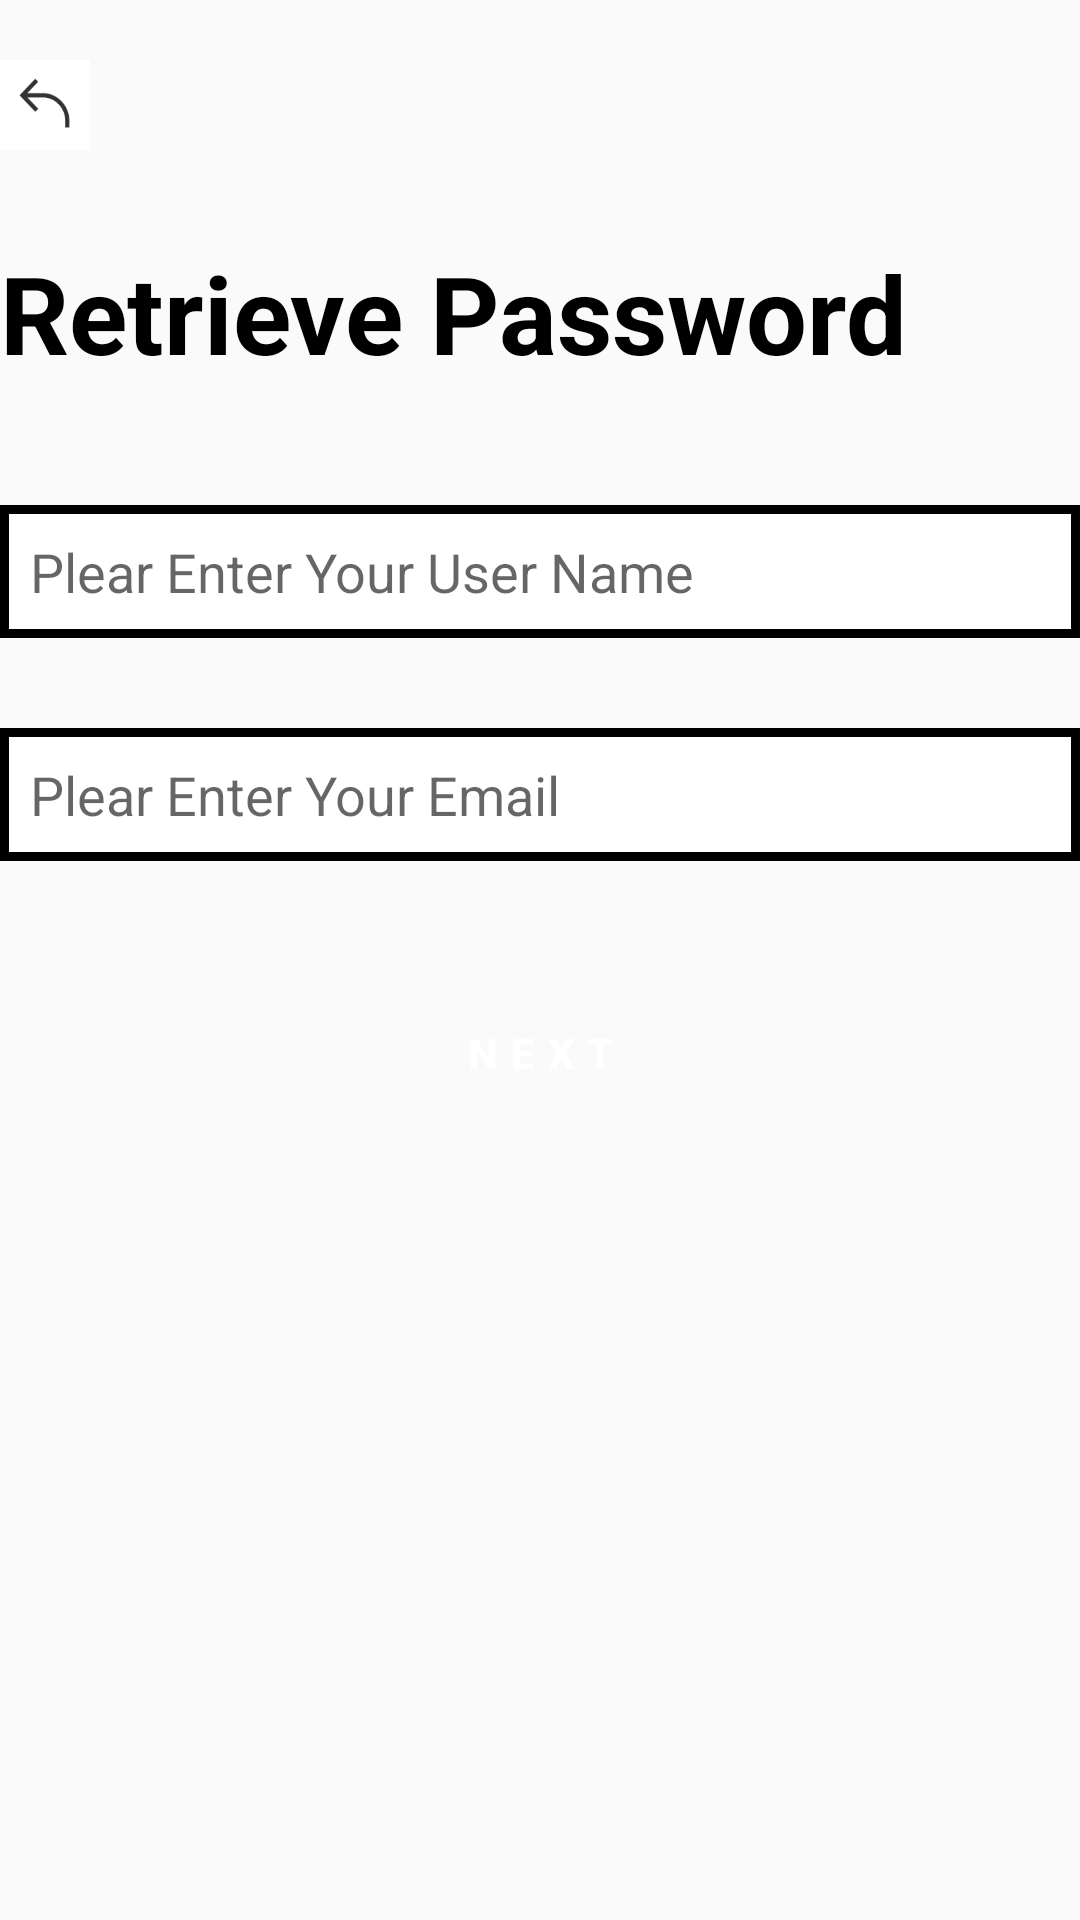

Icon click points for this 1080*1920 phone screenshot, format (x,y):
backbutton: (44,103)
